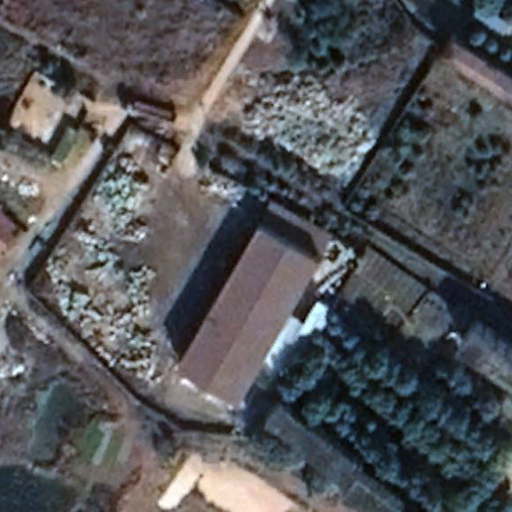msw: (41, 156, 162, 385), (241, 74, 374, 187)
